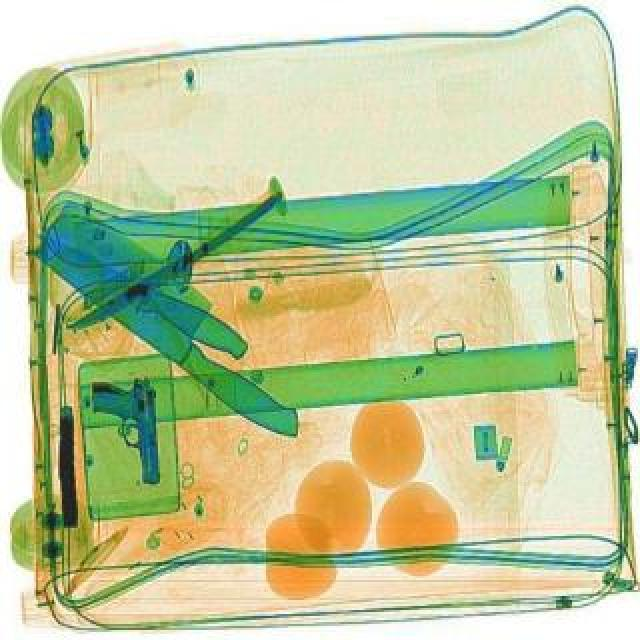gun: (90, 372, 160, 482), (54, 402, 76, 522)
knife: (20, 192, 336, 446), (26, 218, 252, 362), (62, 194, 282, 338)
